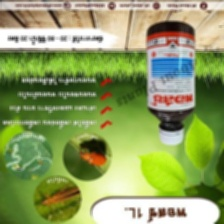insecticide: (142, 18, 199, 147)
